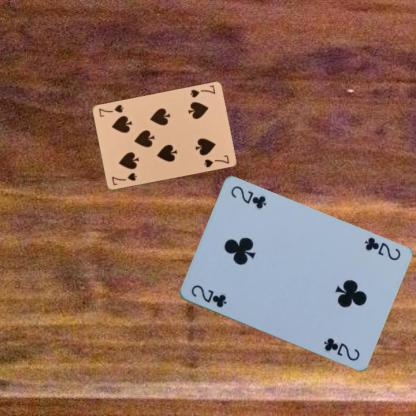2c: (362, 234, 402, 262), (188, 282, 228, 309)
7s: (187, 82, 216, 100), (109, 170, 138, 186)
